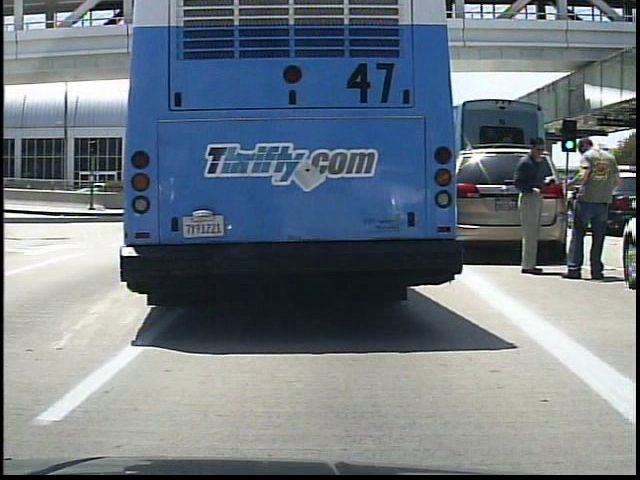person: (560, 121, 618, 287), (511, 131, 560, 275)
